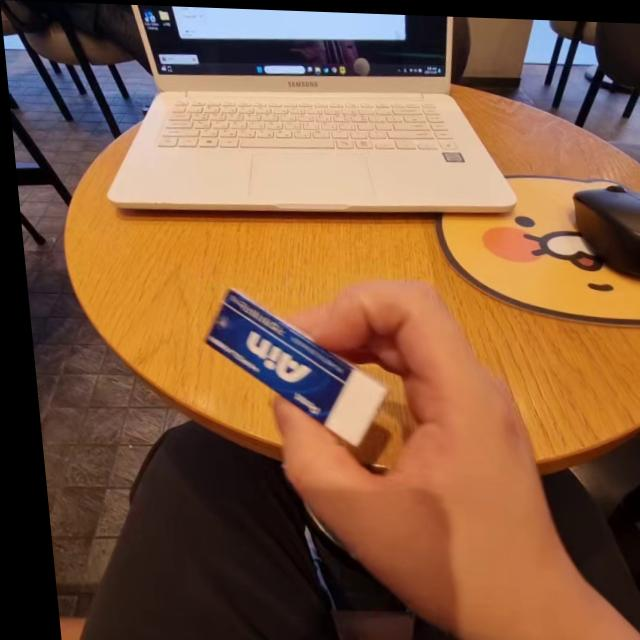grab_eraser: (188, 270, 573, 602)
mouse: (566, 175, 640, 294)
